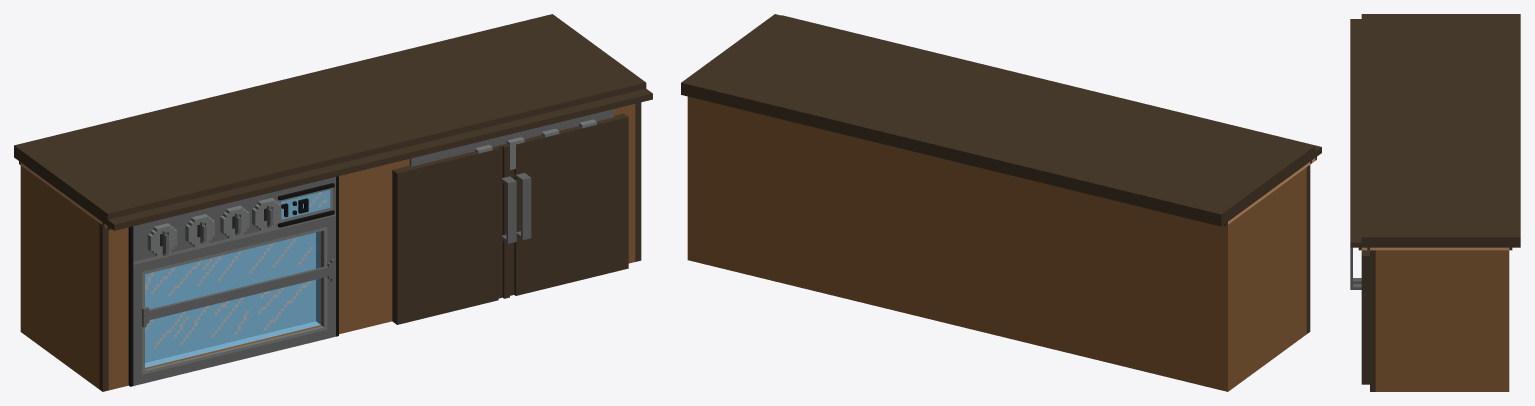
Rendered from Pista3.obj.
3 renders of one model, left to right at view 1: azimuth 30°, elevation 25°; view 2: azimuth 150°, elevation 25°; view 3: azimuth 270°, elevation 25°, orthographic. The views are drawn at different scales.
Size of the model in its own units: 18.6 by 6 by 6.
1 material, 1 textured.
